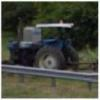tractors: (8, 21, 80, 75)
